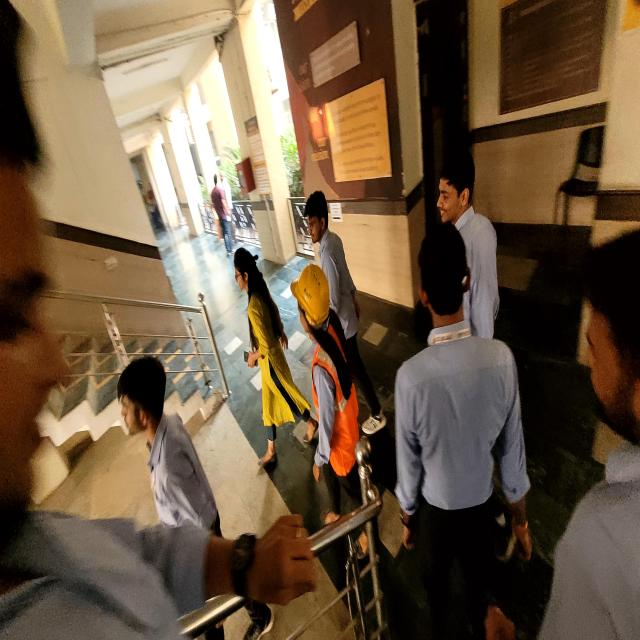safe: (290, 261, 370, 570)
unsafe: (392, 217, 533, 640), (534, 227, 640, 640), (117, 352, 228, 640), (233, 244, 318, 478), (308, 190, 384, 437), (434, 153, 506, 346)
